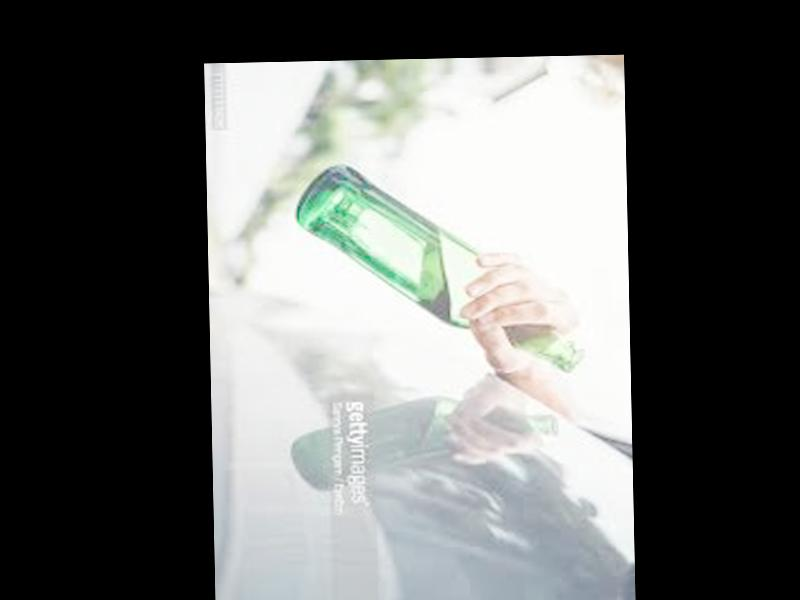Beer: (295, 159, 579, 381)
